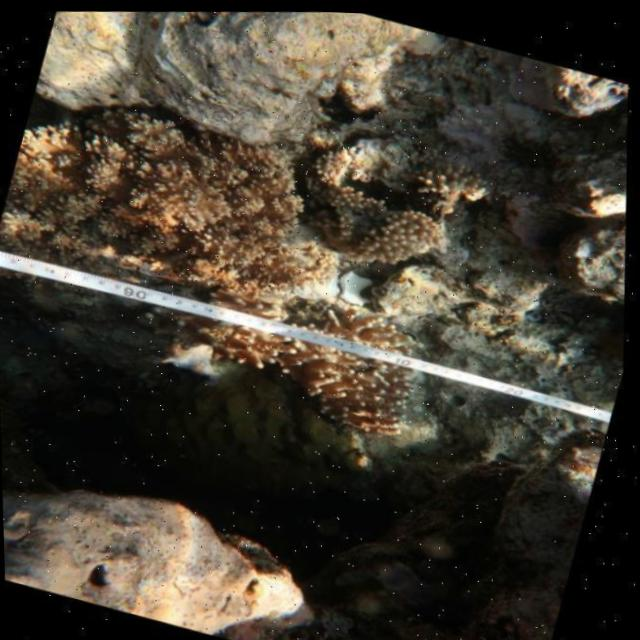Healthy Coral: (0, 65, 316, 328), (195, 270, 456, 447), (291, 119, 500, 294)
